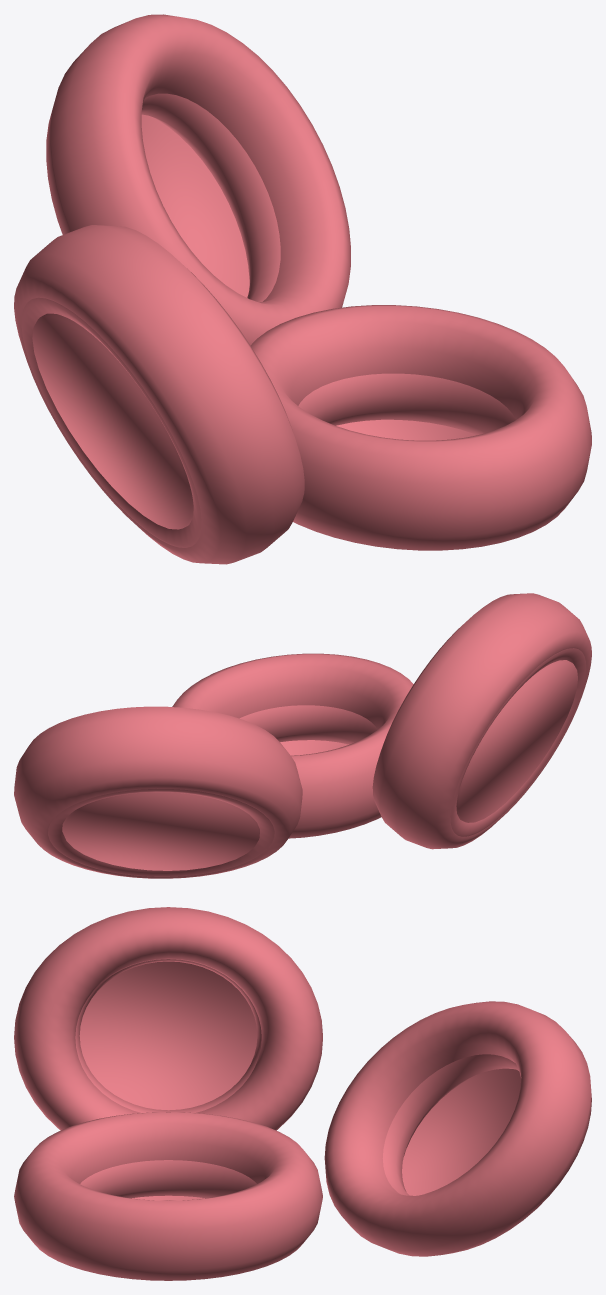
Rendered from cells 2.0.gltf.
The picture shows the model from 3 angles, top to bottom: view 1: azimuth 30°, elevation 25°; view 2: azimuth 150°, elevation 25°; view 3: azimuth 270°, elevation 25°; orthographic projection. The views are drawn at different scales.
Parts seen in each view (by area): view 1: Torus.001, Torus, Torus.002; view 2: Torus.001, Torus.002, Torus; view 3: Torus.002, Torus.001, Torus.
Boxes of the visible parts, x1,y1,x2,y2 form: Torus.001: (46,14,350,345); Torus: (250,305,591,550); Torus.002: (14,225,304,564); Torus.001: (14,706,302,878); Torus.002: (372,593,591,849); Torus: (172,653,413,838); Torus.002: (14,907,322,1130); Torus.001: (324,1001,591,1256); Torus: (14,1112,322,1280).
Bounding box in the file's own units: 8.18 × 5.01 × 11.3.
